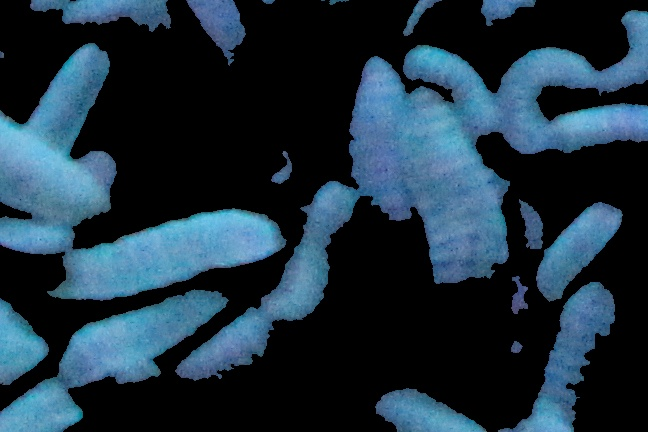larvae: (403, 89, 510, 282), (52, 211, 285, 293), (53, 288, 228, 385), (527, 285, 617, 432), (266, 179, 353, 316), (344, 55, 414, 225), (1, 116, 108, 220), (498, 50, 597, 148), (172, 305, 279, 386), (27, 48, 111, 150), (531, 198, 615, 299), (405, 44, 500, 130), (372, 378, 482, 432), (552, 101, 648, 154), (600, 10, 648, 92), (1, 218, 76, 256)
